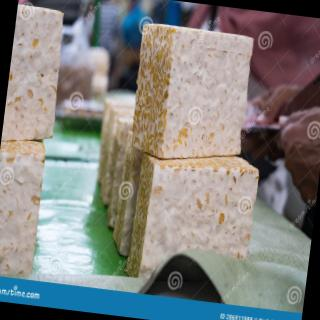Tempe: (125, 145, 263, 293), (2, 4, 70, 148), (1, 137, 49, 281), (90, 95, 138, 231), (269, 101, 320, 209), (111, 131, 147, 259), (104, 117, 135, 231)
